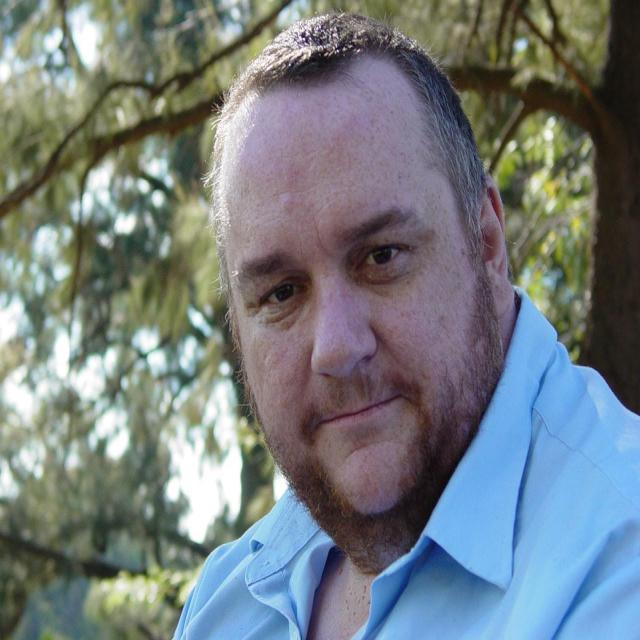Eyebags: (355, 253, 413, 296), (258, 291, 310, 330)
